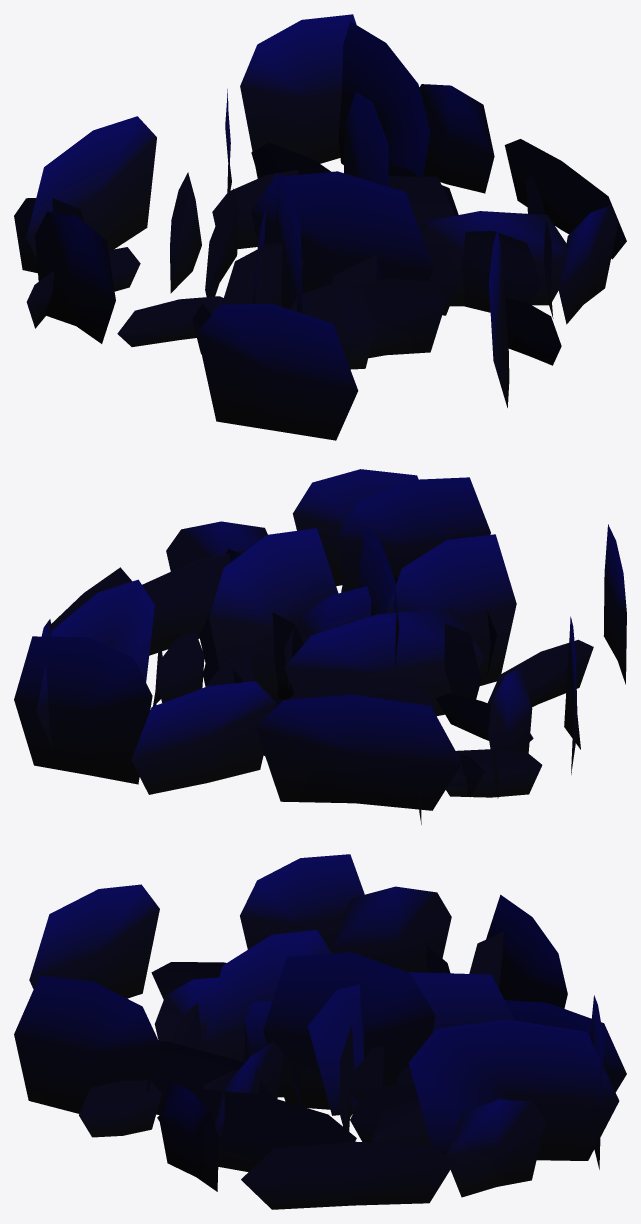
Rendered from SM_Grass_S_Patch_Lg_01.fbx.
3 renders of one model, top to bottom at view 1: azimuth 30°, elevation 25°; view 2: azimuth 150°, elevation 25°; view 3: azimuth 270°, elevation 25°, orthographic. The views are drawn at different scales.
Visible parts, largest first — view 1: SM_Grass_S_Patch_Lg_01; view 2: SM_Grass_S_Patch_Lg_01; view 3: SM_Grass_S_Patch_Lg_01.
Boxes of the visible parts, x1=… form: SM_Grass_S_Patch_Lg_01: x1=14, y1=14, x2=626, y2=440; SM_Grass_S_Patch_Lg_01: x1=14, y1=469, x2=626, y2=824; SM_Grass_S_Patch_Lg_01: x1=14, y1=854, x2=626, y2=1209.
Bounding box in the file's own units: 194 × 203 × 60.82.
